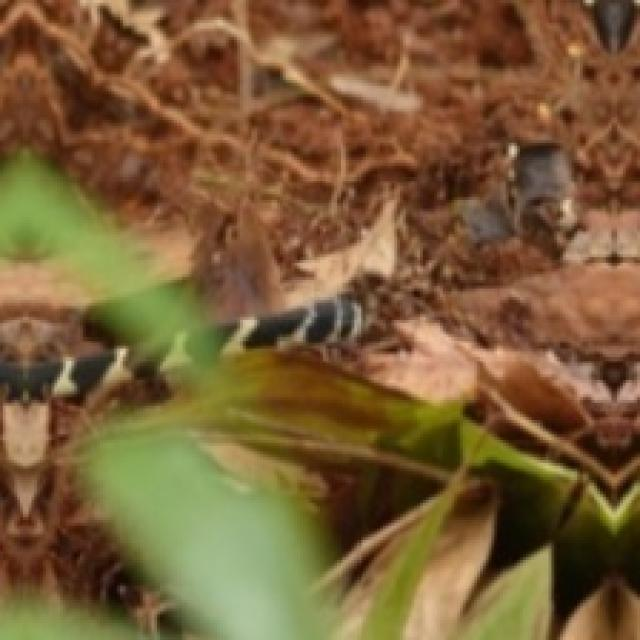king cobra: (0, 303, 189, 411), (220, 294, 360, 351)
